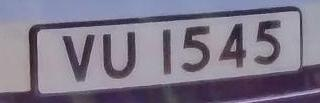1: (150, 21, 186, 80)
4: (215, 16, 253, 75)
5: (176, 18, 216, 77), (249, 14, 286, 71)
U: (98, 26, 143, 85)
V: (56, 29, 101, 86)
